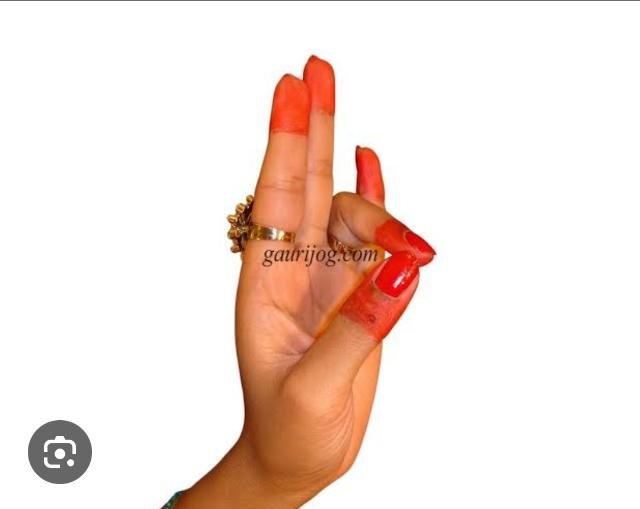mayur: (163, 56, 438, 509), (210, 48, 450, 476)
